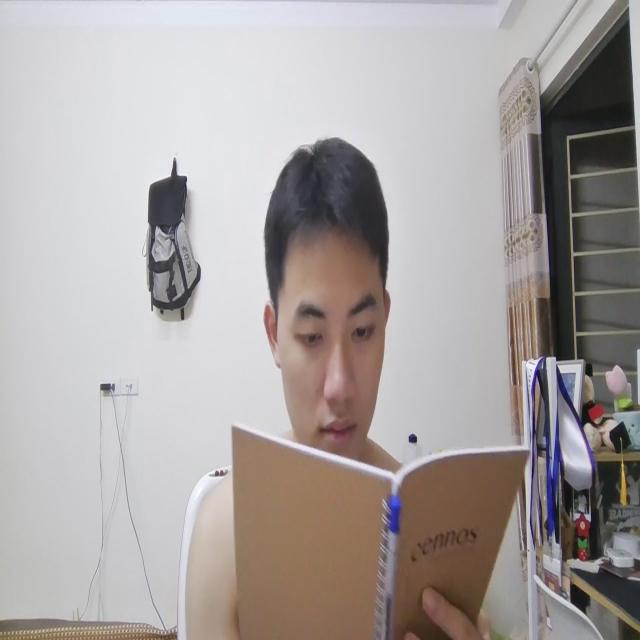book: (219, 420, 532, 628)
student: (253, 140, 400, 453)
